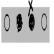correct: (16, 10, 23, 38)
no answer: (40, 10, 48, 34), (4, 11, 10, 33)
not correct: (28, 0, 35, 35)
